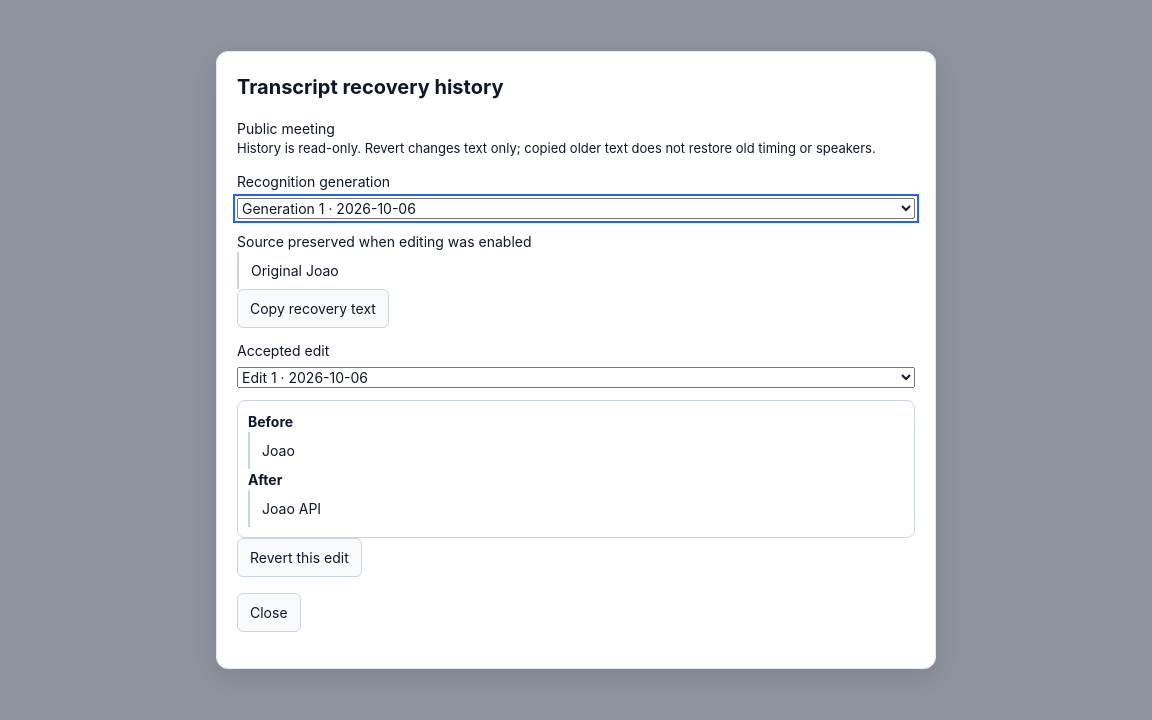
Test: legacy source is labeled honestly; compatible inverse is guarded and failed save keeps recovery text
This screenshot has width=1152, height=720.
Expected: the text "Source preserved when editing was enabled" is shown, left=237, top=233, right=532, bottom=250
Expected: the text "Original Joao" is shown, left=237, top=252, right=915, bottom=289
Click the button "Revert this edit": (299, 557) left=237, top=538, right=362, bottom=577
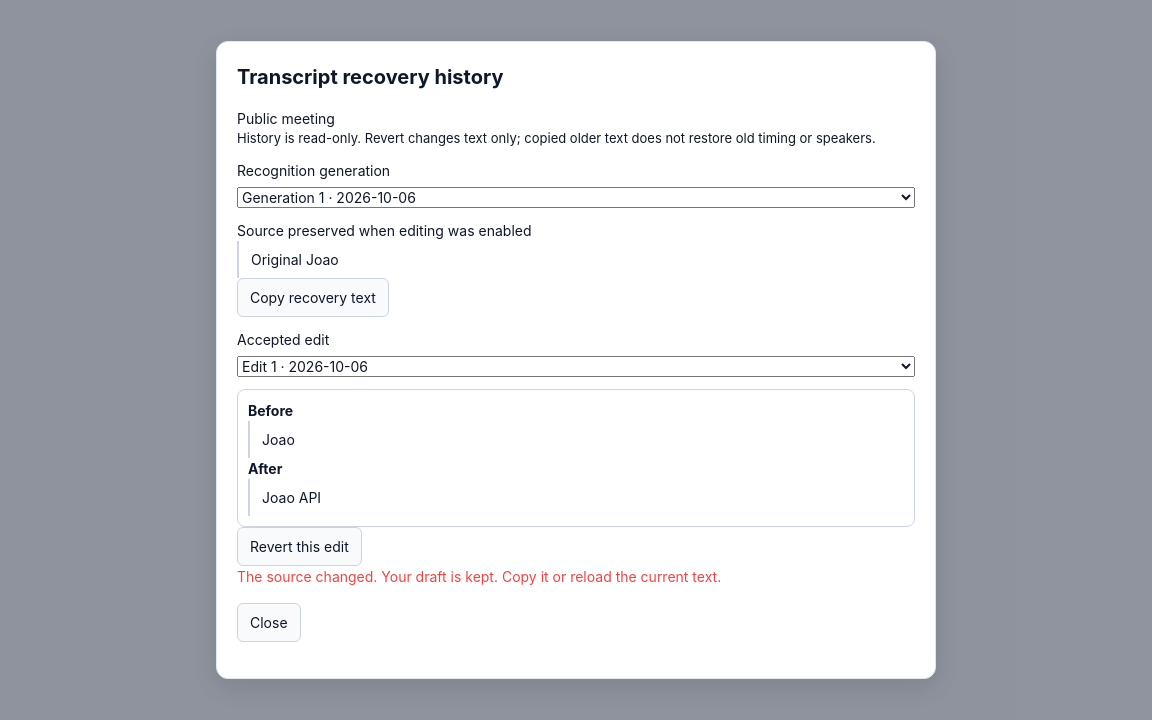
Expected: the text "Original Joao" is shown, left=237, top=241, right=915, bottom=278
Result: the message "The source changed. Your draft is kept. Copy it or reload the current text." is shown at left=237, top=568, right=721, bottom=585
